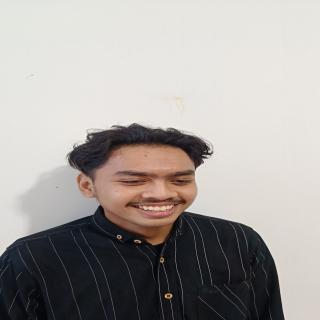Senang: (91, 141, 211, 232)
